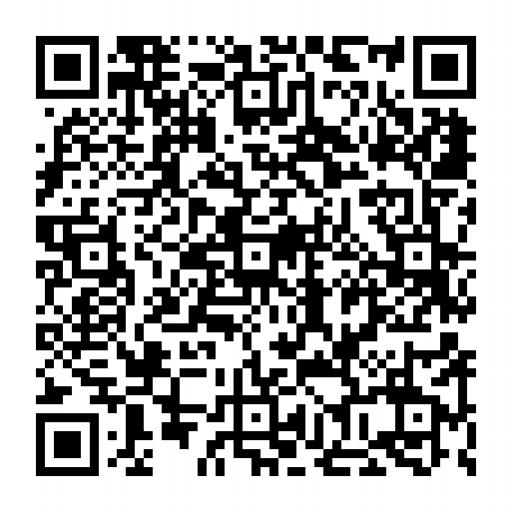QR_CODE: (25, 25, 490, 483)
